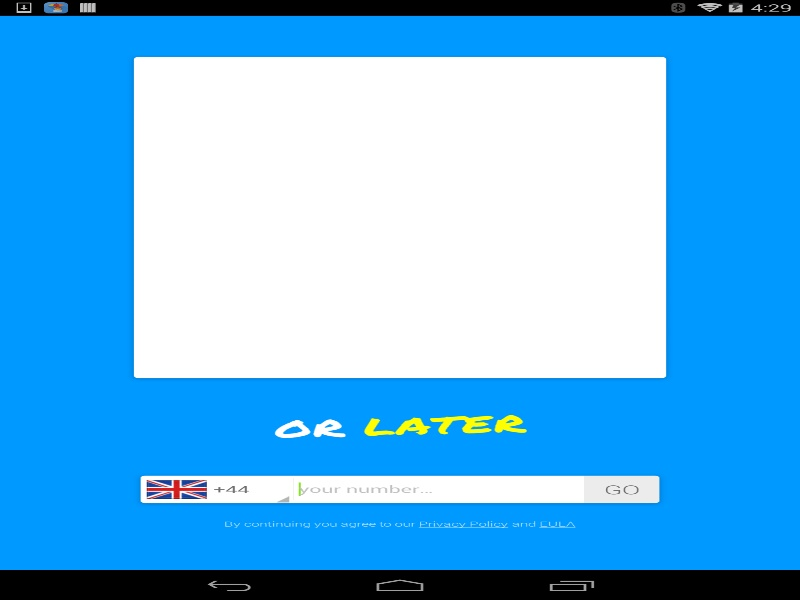Input: (293, 475, 438, 503)
